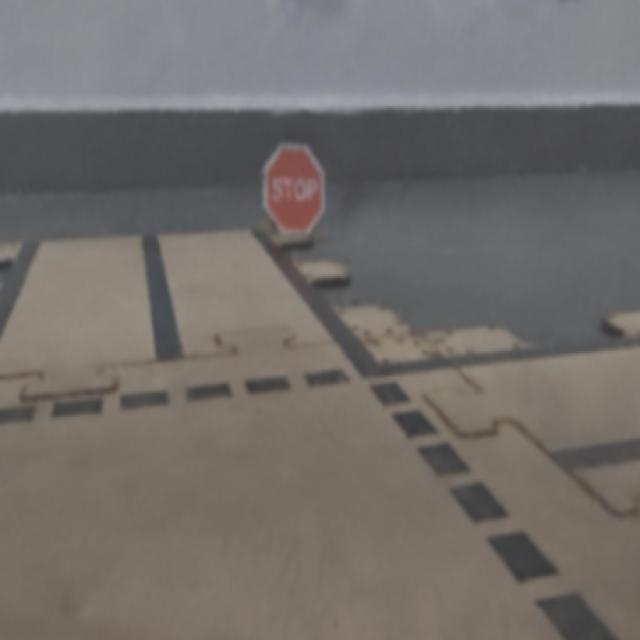STOP: (264, 144, 323, 232)
